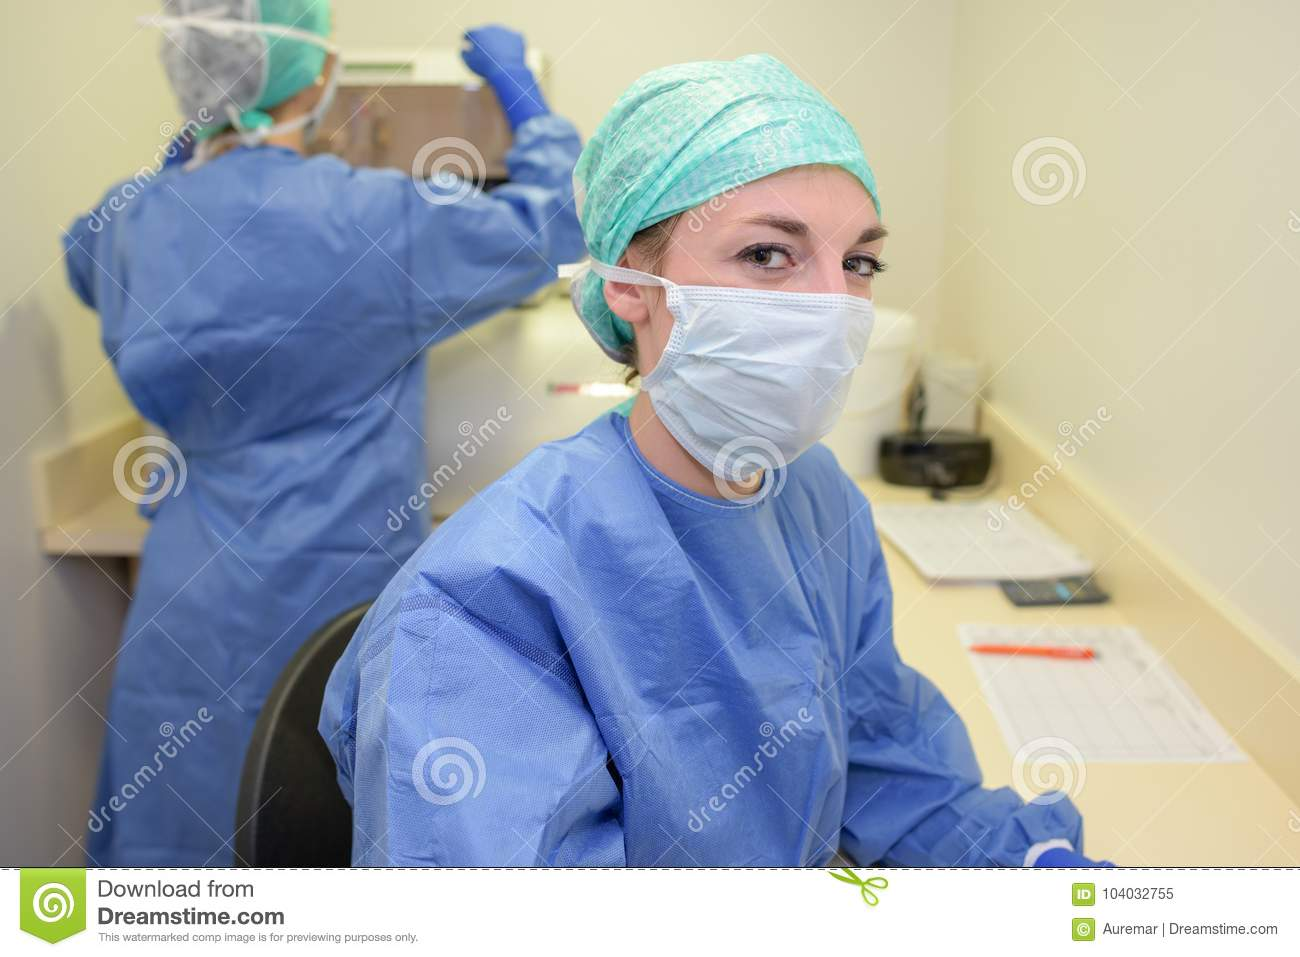mask: (651, 289, 897, 478)
